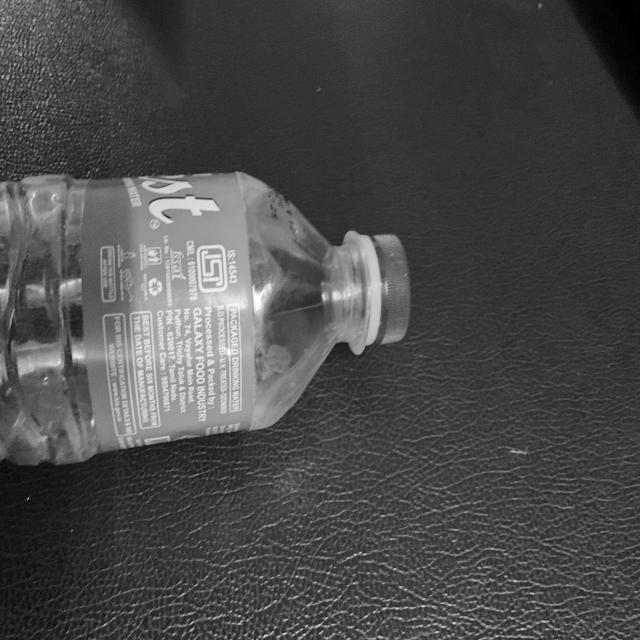Good-cap-Df0S: (352, 228, 415, 354)
